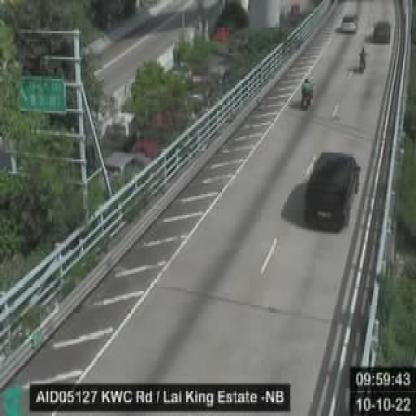Car: (302, 152, 362, 233), (341, 5, 359, 33), (373, 20, 390, 42)
